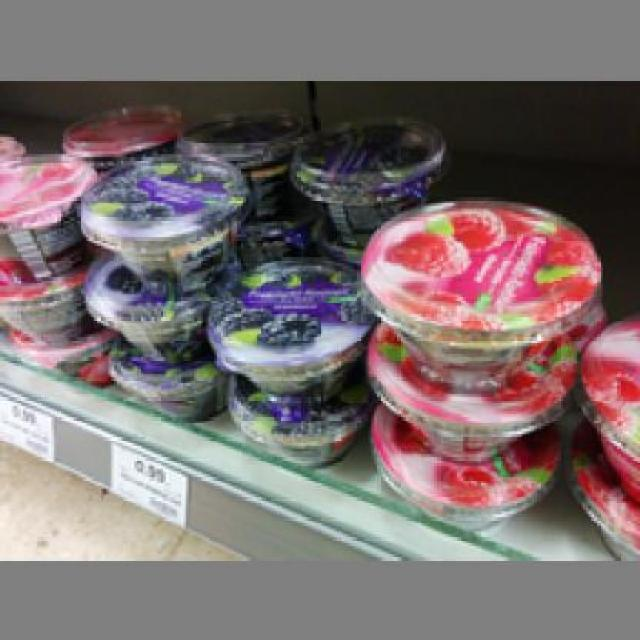Jam: (354, 192, 603, 388), (202, 254, 368, 403), (74, 152, 246, 288), (277, 114, 443, 246), (83, 254, 220, 363)
